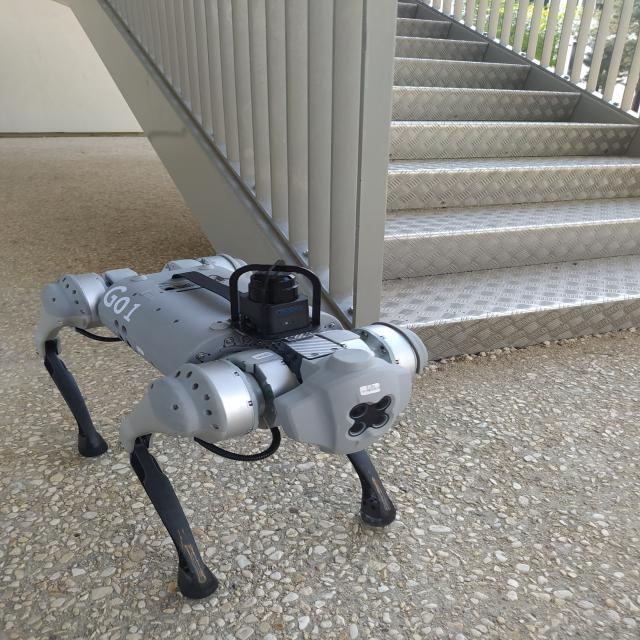unitree-go1-robot: (0, 248, 453, 602)
